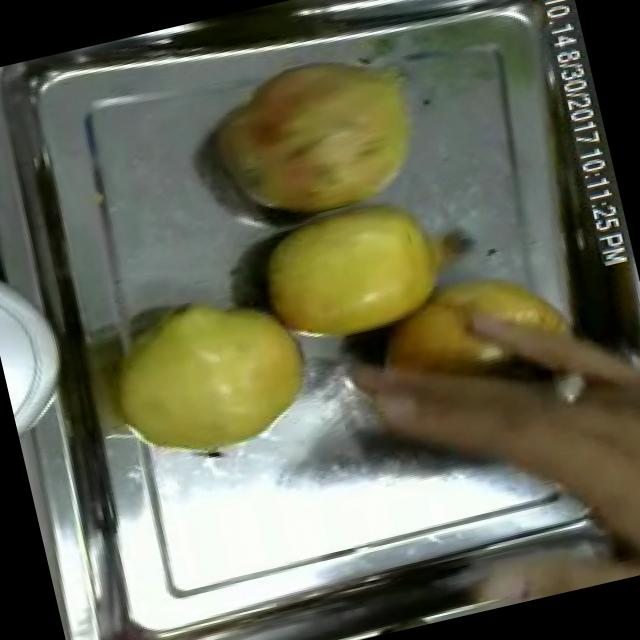fruit: (179, 29, 456, 248), (88, 267, 338, 482), (237, 176, 478, 364)
